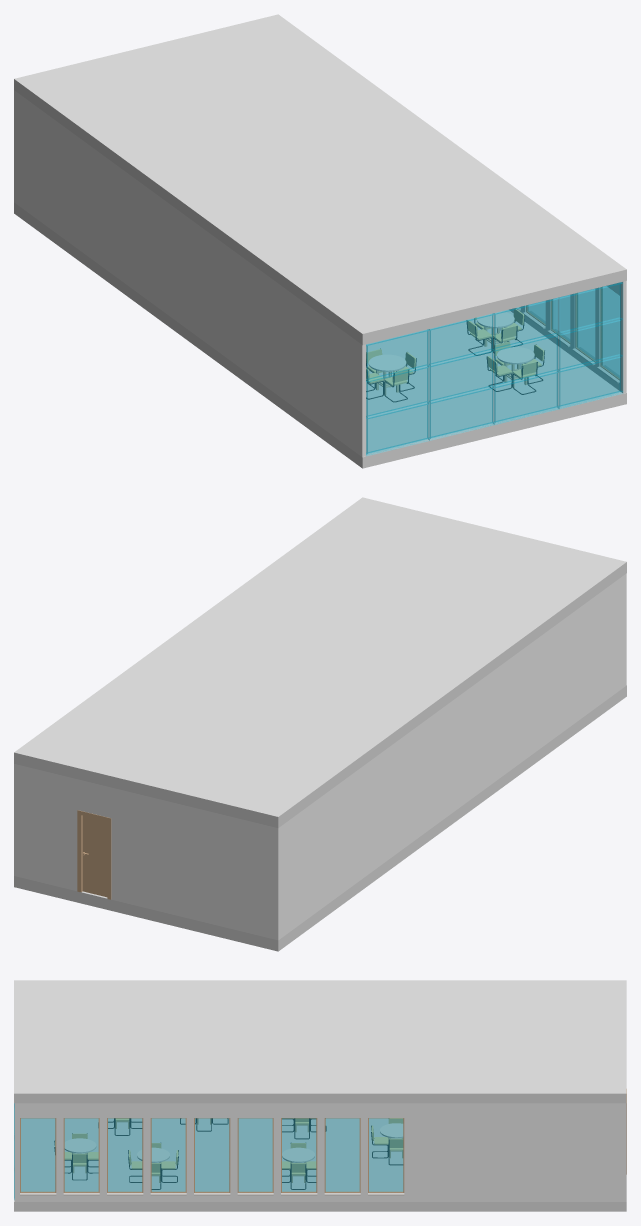
The model's file is cafe.glb.
The picture shows the model from 3 angles, top to bottom: view 1: azimuth 30°, elevation 25°; view 2: azimuth 150°, elevation 25°; view 3: azimuth 270°, elevation 25°; orthographic projection. The views are drawn at different scales.
Parts seen in each view (by area): view 1: product-76178dce-ff53-4da5-b52a-f5f1ad793035-body, product-ac9cc010-0e8f-4c9e-b289-81fb60a309bd-body, product-76178dce-ff53-4da5-b52a-f5f1ad7930e7-body, product-ac9cc010-0e8f-4c9e-b289-81fb60a309bf-body, product-76178dce-ff53-4da5-b52a-f5f1ad79378a-body, product-76178dce-ff53-4da5-b52a-f5f1ad7937e4-body, product-76178dce-ff53-4da5-b52a-f5f1ad7937e1-body, product-76178dce-ff53-4da5-b52a-f5f1ad7937e7-body, product-76178dce-ff53-4da5-b52a-f5f1ad7937e0-body, product-76178dce-ff53-4da5-b52a-f5f1ad79378c-body, product-76178dce-ff53-4da5-b52a-f5f1ad7937fe-body, product-76178dce-ff53-4da5-b52a-f5f1ad7937e5-body (+10 smaller); view 2: product-76178dce-ff53-4da5-b52a-f5f1ad793035-body, product-ac9cc010-0e8f-4c9e-b289-81fb60a309bd-body, product-ac9cc010-0e8f-4c9e-b289-81fb60a309bc-body, product-76178dce-ff53-4da5-b52a-f5f1ad7930e7-body, product-ac9cc010-0e8f-4c9e-b289-81fb60a3ffdc-body; view 3: product-76178dce-ff53-4da5-b52a-f5f1ad793035-body, product-ac9cc010-0e8f-4c9e-b289-81fb60a309bf-body, product-76178dce-ff53-4da5-b52a-f5f1ad7930e7-body, product-ac9cc010-0e8f-4c9e-b289-81fb60a3f7c2-body, product-ac9cc010-0e8f-4c9e-b289-81fb60a3f673-body, product-ac9cc010-0e8f-4c9e-b289-81fb60a3f656-body, product-ac9cc010-0e8f-4c9e-b289-81fb60a3f63e-body, product-ac9cc010-0e8f-4c9e-b289-81fb60a3f63f-body, product-ac9cc010-0e8f-4c9e-b289-81fb60a3f60a-body, product-ac9cc010-0e8f-4c9e-b289-81fb60a3f60b-body, product-ac9cc010-0e8f-4c9e-b289-81fb60a3f608-body, product-ac9cc010-0e8f-4c9e-b289-81fb60a3f609-body (+3 smaller).
Part boxes in pixels (x1=…): product-76178dce-ff53-4da5-b52a-f5f1ad793035-body: x1=14, y1=14, x2=626, y2=345; product-ac9cc010-0e8f-4c9e-b289-81fb60a309bd-body: x1=16, y1=92, x2=365, y2=456; product-76178dce-ff53-4da5-b52a-f5f1ad7930e7-body: x1=14, y1=202, x2=626, y2=468; product-ac9cc010-0e8f-4c9e-b289-81fb60a309bf-body: x1=509, y1=281, x2=626, y2=393; product-76178dce-ff53-4da5-b52a-f5f1ad79378a-body: x1=494, y1=372, x2=557, y2=421; product-76178dce-ff53-4da5-b52a-f5f1ad7937e4-body: x1=494, y1=335, x2=557, y2=384; product-76178dce-ff53-4da5-b52a-f5f1ad7937e1-body: x1=494, y1=299, x2=557, y2=348; product-76178dce-ff53-4da5-b52a-f5f1ad7937e7-body: x1=430, y1=351, x2=492, y2=400; product-76178dce-ff53-4da5-b52a-f5f1ad7937e0-body: x1=430, y1=314, x2=492, y2=363; product-76178dce-ff53-4da5-b52a-f5f1ad79378c-body: x1=430, y1=388, x2=492, y2=437; product-76178dce-ff53-4da5-b52a-f5f1ad7937fe-body: x1=559, y1=283, x2=620, y2=332; product-76178dce-ff53-4da5-b52a-f5f1ad7937e5-body: x1=559, y1=320, x2=620, y2=369; product-76178dce-ff53-4da5-b52a-f5f1ad793035-body: x1=14, y1=497, x2=626, y2=828; product-ac9cc010-0e8f-4c9e-b289-81fb60a309bd-body: x1=280, y1=573, x2=626, y2=938; product-ac9cc010-0e8f-4c9e-b289-81fb60a309bc-body: x1=17, y1=765, x2=280, y2=940; product-76178dce-ff53-4da5-b52a-f5f1ad7930e7-body: x1=14, y1=685, x2=626, y2=951; product-ac9cc010-0e8f-4c9e-b289-81fb60a3ffdc-body: x1=77, y1=810, x2=111, y2=899; product-76178dce-ff53-4da5-b52a-f5f1ad793035-body: x1=14, y1=980, x2=626, y2=1103; product-ac9cc010-0e8f-4c9e-b289-81fb60a309bf-body: x1=14, y1=1103, x2=626, y2=1201; product-76178dce-ff53-4da5-b52a-f5f1ad7930e7-body: x1=14, y1=1104, x2=626, y2=1211; product-ac9cc010-0e8f-4c9e-b289-81fb60a3f7c2-body: x1=20, y1=1118, x2=56, y2=1195; product-ac9cc010-0e8f-4c9e-b289-81fb60a3f673-body: x1=63, y1=1118, x2=99, y2=1195; product-ac9cc010-0e8f-4c9e-b289-81fb60a3f656-body: x1=107, y1=1118, x2=143, y2=1195; product-ac9cc010-0e8f-4c9e-b289-81fb60a3f63e-body: x1=150, y1=1118, x2=186, y2=1195; product-ac9cc010-0e8f-4c9e-b289-81fb60a3f63f-body: x1=194, y1=1118, x2=230, y2=1195; product-ac9cc010-0e8f-4c9e-b289-81fb60a3f60a-body: x1=237, y1=1118, x2=273, y2=1195; product-ac9cc010-0e8f-4c9e-b289-81fb60a3f60b-body: x1=281, y1=1118, x2=317, y2=1195; product-ac9cc010-0e8f-4c9e-b289-81fb60a3f608-body: x1=324, y1=1118, x2=360, y2=1195; product-ac9cc010-0e8f-4c9e-b289-81fb60a3f609-body: x1=368, y1=1118, x2=404, y2=1195.
Bounding box in the file's own units: 7.47 × 3.6 × 16.91.
